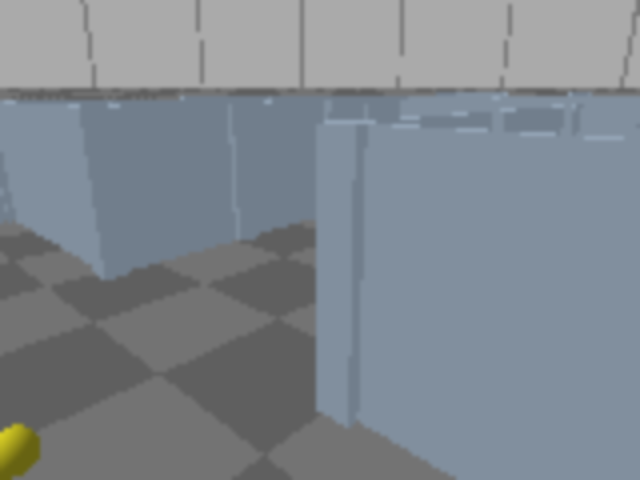puck: (0, 415, 55, 478)
